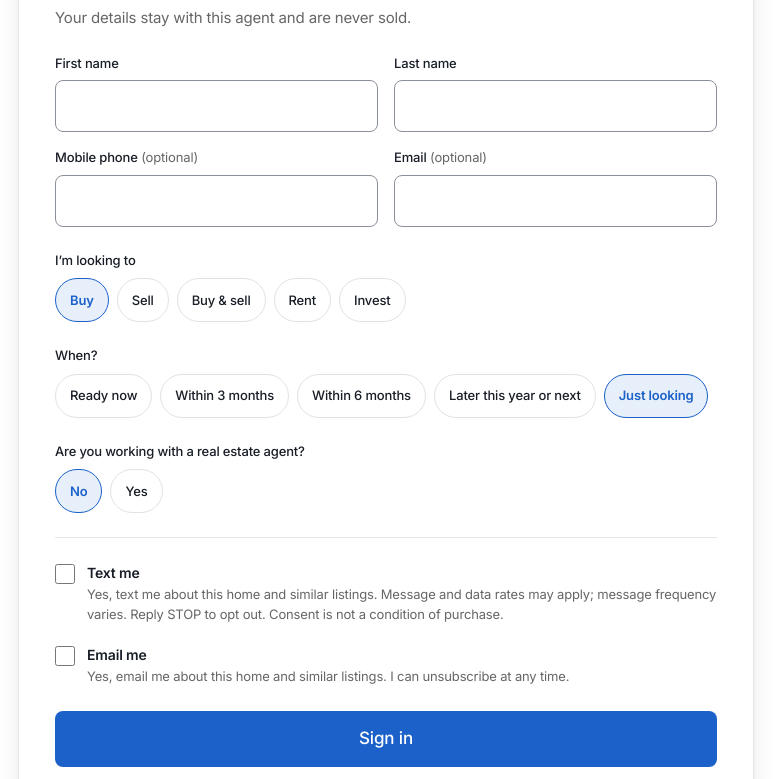
Test: OpenHouseKiosk › shows field errors returned by the server
(page scrolled)
Step 1. Click the button "Sign in" → (386, 739), box top-left (55, 711), bottom-right (717, 767)
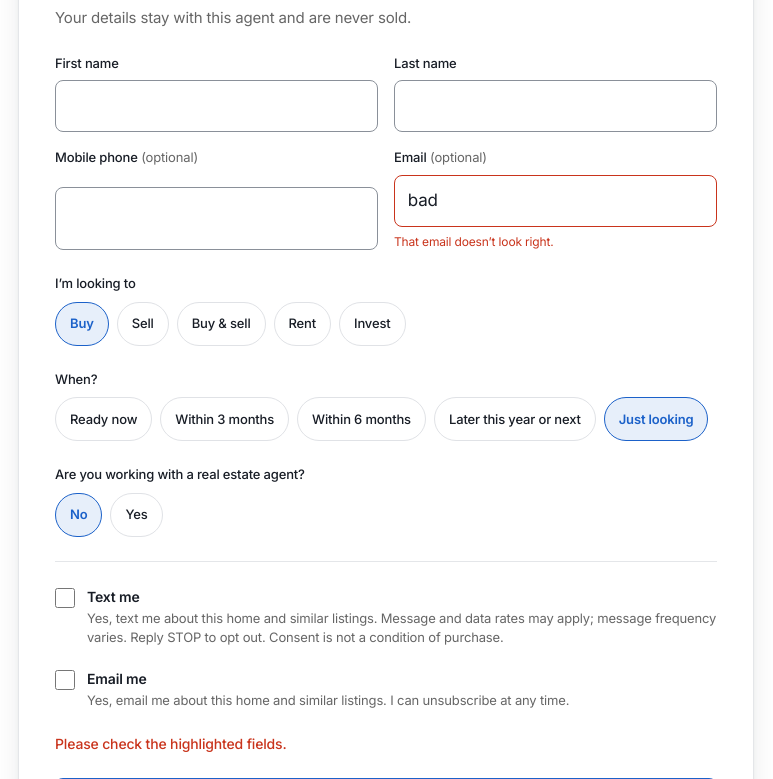
Now the message reads "Please check the highlighted fields.", box top-left (55, 735), bottom-right (287, 752)
